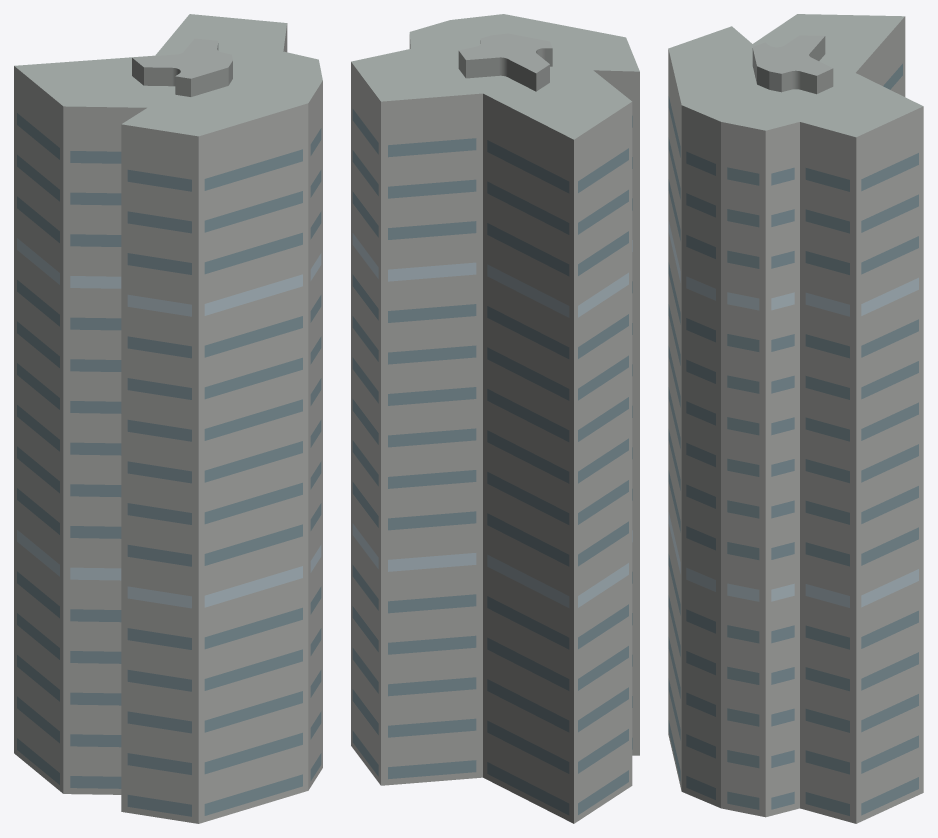
The model's file is fallback-jamsil-parkrio-225.glb.
3 renders of one model, left to right at view 1: azimuth 30°, elevation 25°; view 2: azimuth 150°, elevation 25°; view 3: azimuth 270°, elevation 25°, orthographic.
Visible parts, largest first — view 1: fallback-jamsil-parkrio-225; view 2: fallback-jamsil-parkrio-225; view 3: fallback-jamsil-parkrio-225.
Boxes of the visible parts, bbox=[...] form: fallback-jamsil-parkrio-225: bbox=[14, 14, 322, 823]; fallback-jamsil-parkrio-225: bbox=[351, 14, 639, 823]; fallback-jamsil-parkrio-225: bbox=[668, 14, 923, 823].
Bounding box in the file's own units: 34.53 × 92 × 30.17.
